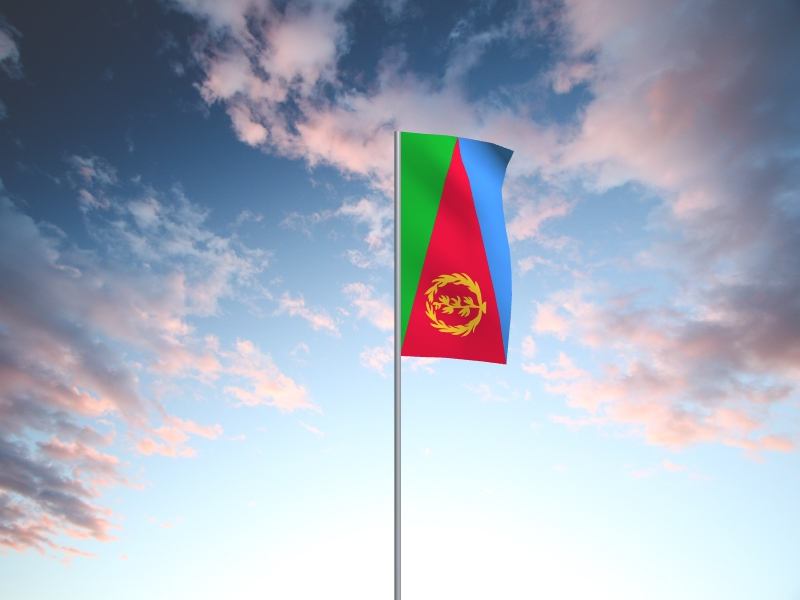er: (401, 132, 516, 366)
